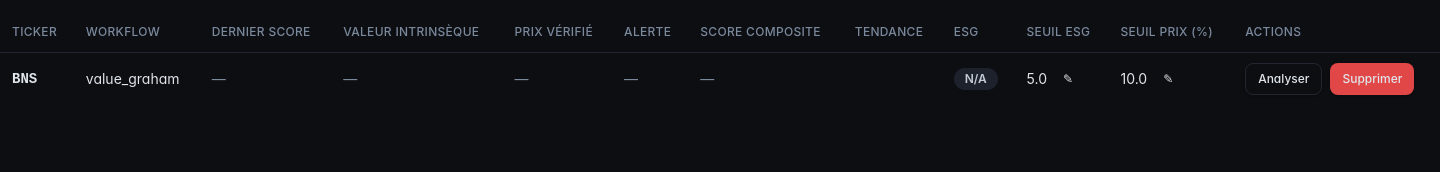
Test: WatchlistTable — Seuil Prix › ouvre le champ input en cliquant sur le bouton crayon
Click the button with test id "watchlist-price-threshold-abc-123-edit-btn" at point(1168, 78), box left=1151, top=62, right=1185, bottom=94
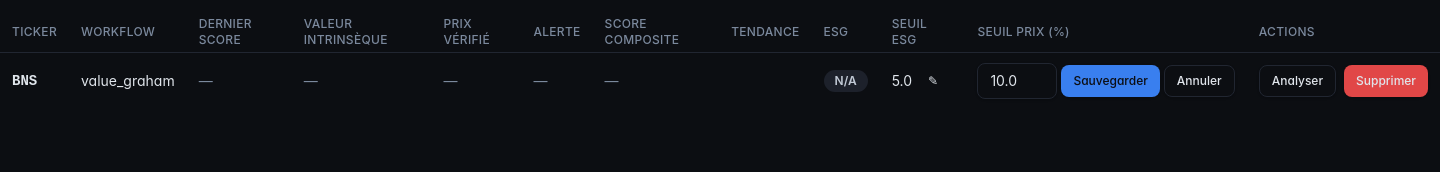
Expected: the number field with test id "watchlist-price-threshold-abc-123-input" is shown, left=977, top=62, right=1057, bottom=98
